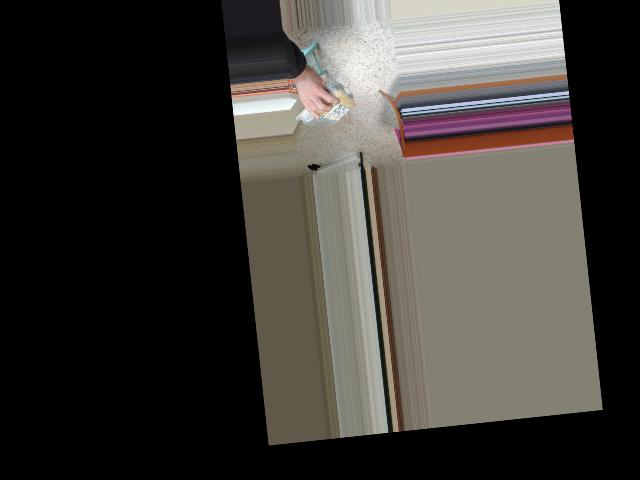cheese: (296, 90, 363, 124)
